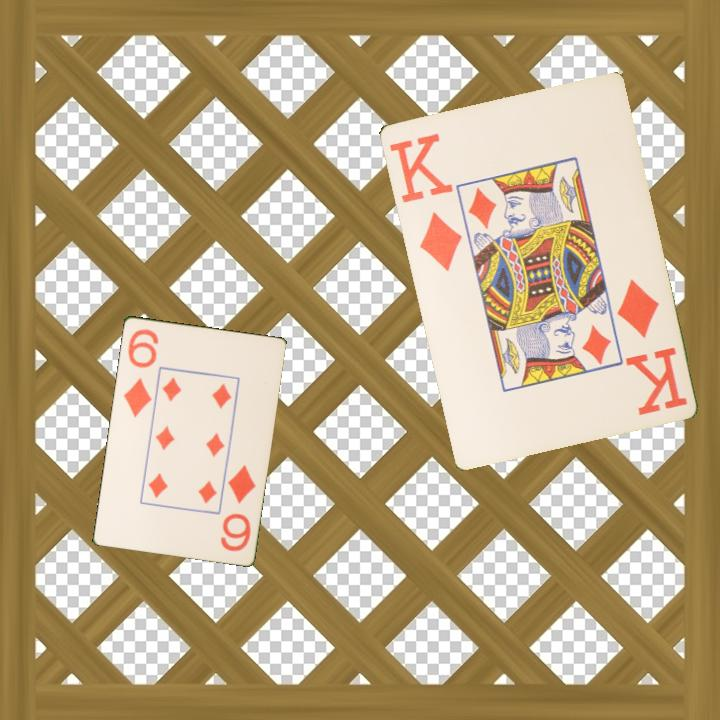6d: (120, 325, 161, 420), (217, 461, 258, 554)
Kd: (386, 129, 464, 274), (613, 275, 690, 418)
